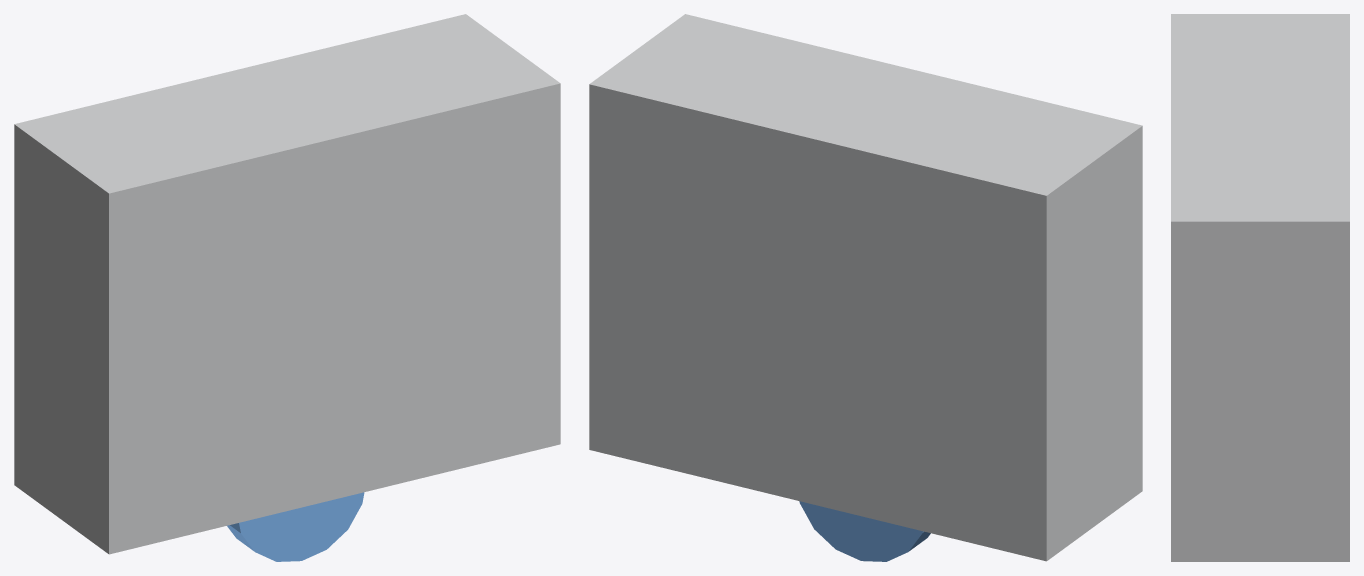
File: projector.glb
3 renders of one model, left to right at view 1: azimuth 30°, elevation 25°; view 2: azimuth 150°, elevation 25°; view 3: azimuth 270°, elevation 25°, orthographic. The views are drawn at different scales.
Visible parts, largest first — view 1: body_0, lens_1; view 2: body_0, lens_1; view 3: body_0.
Part boxes in pixels (x1=…): body_0: x1=14, y1=14, x2=560, y2=554; lens_1: x1=227, y1=492, x2=364, y2=561; body_0: x1=589, y1=14, x2=1142, y2=561; lens_1: x1=799, y1=501, x2=930, y2=561; body_0: x1=1171, y1=14, x2=1349, y2=561.
Bounding box in the file's own units: 0.55 × 0.52 × 0.2.
